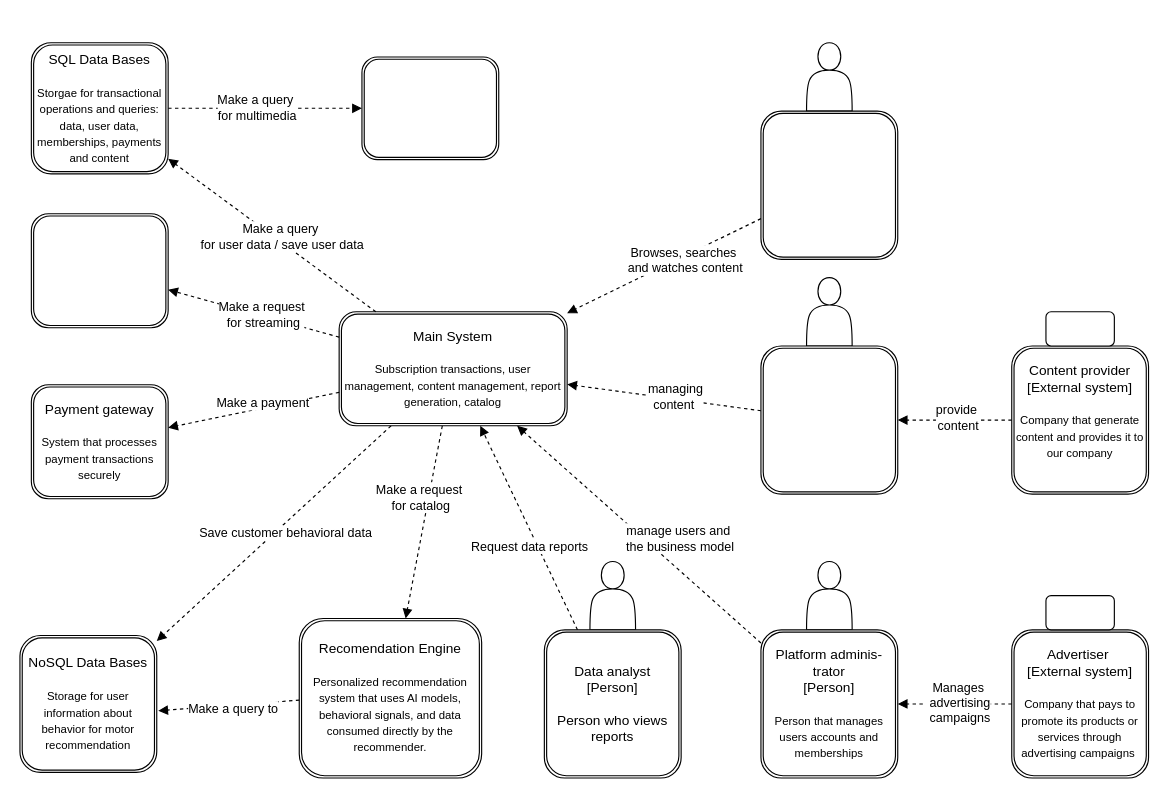
Some shapes in this 1169 by 798 pixel diagram are drawn without their labels. The shapes that lost their labels are listed below. From the top down, each one's box as (x1, y1, x2, y2) in pixels, then its label:
(361, 56, 499, 160): Object Storage Storage the multimedia content
(760, 110, 898, 259): Customer [Person] Person with account and membership, watch content of streaming
(30, 213, 168, 328): Video Streaming Service Transmit the multimedia content though segments
(760, 345, 898, 494): Operational user [Person] Person that manages the content
